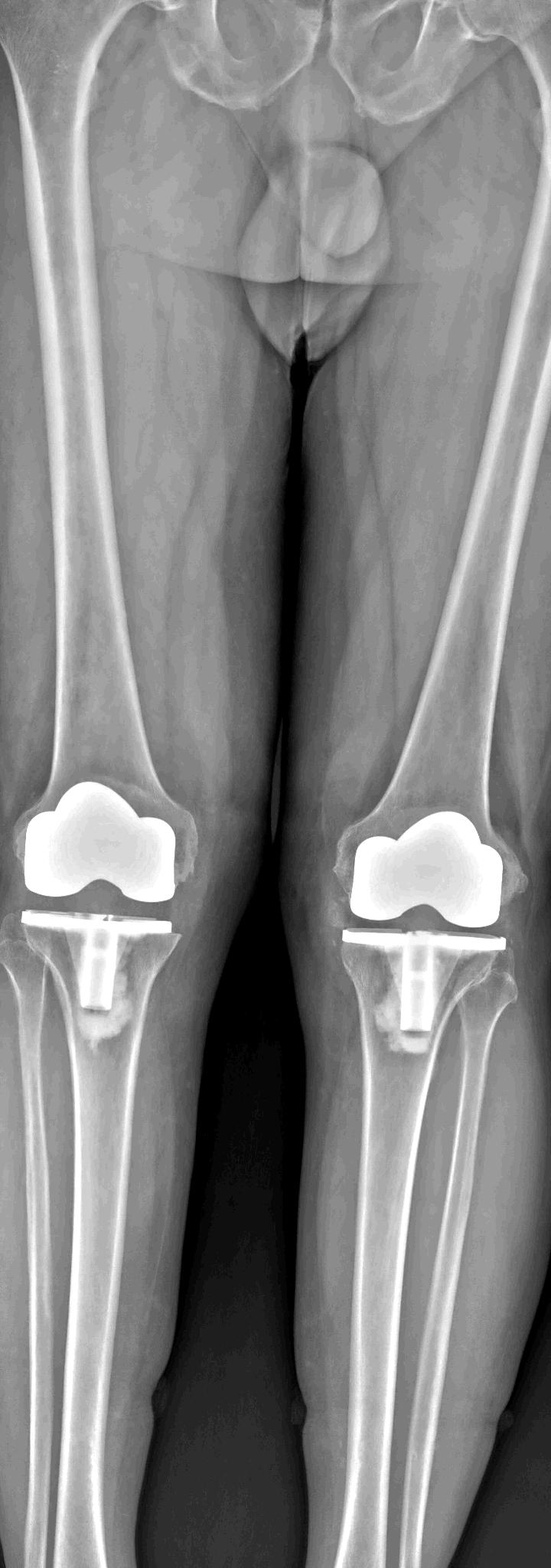Leg Fibula: (400, 972, 516, 1568), (0, 917, 53, 1568)
Leg Tibia: (335, 930, 505, 1568), (22, 912, 178, 1568)
femur: (336, 0, 551, 930), (0, 0, 198, 905)
